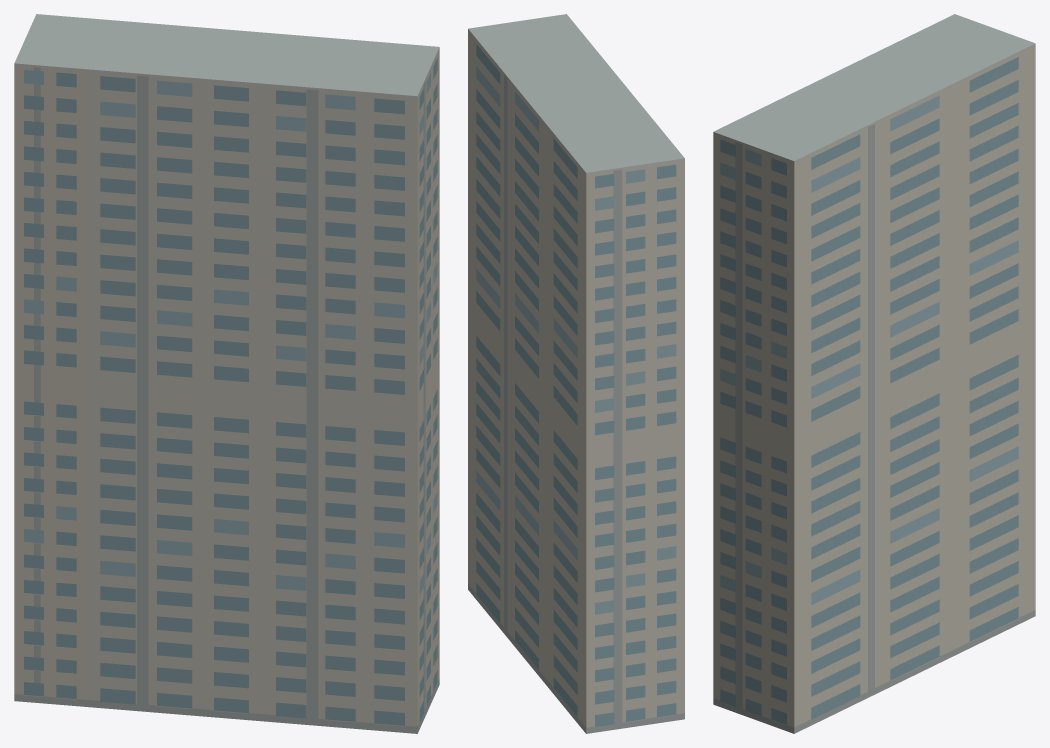
Rendered from residential-df2eed80-9a62-4a63-a35d-66fc13d41495.glb.
The picture shows the model from 3 angles, left to right: view 1: azimuth 30°, elevation 25°; view 2: azimuth 150°, elevation 25°; view 3: azimuth 270°, elevation 25°; orthographic projection. The views are drawn at different scales.
Visible parts, largest first — view 1: residential-df2eed80-9a62-4a63-a35d-66fc13d41495.tmp; view 2: residential-df2eed80-9a62-4a63-a35d-66fc13d41495.tmp; view 3: residential-df2eed80-9a62-4a63-a35d-66fc13d41495.tmp.
Boxes of the visible parts, <box> form: residential-df2eed80-9a62-4a63-a35d-66fc13d41495.tmp: <box>14,14,439,733</box>; residential-df2eed80-9a62-4a63-a35d-66fc13d41495.tmp: <box>468,14,684,733</box>; residential-df2eed80-9a62-4a63-a35d-66fc13d41495.tmp: <box>713,14,1035,733</box>.
Bounding box in the file's own units: 39.14 × 71 × 36.24.
